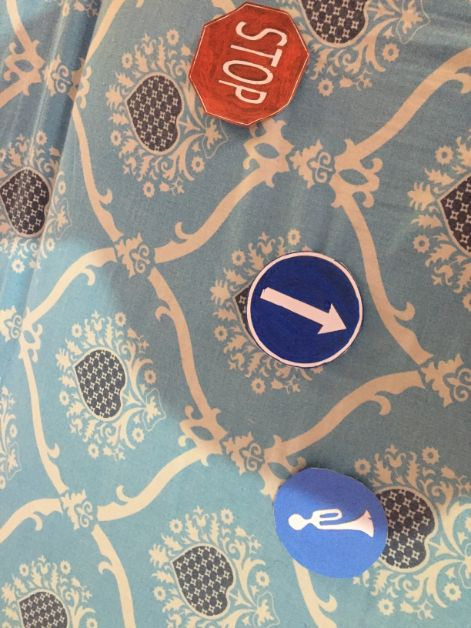blow-horn: (274, 464, 386, 576)
go-stright: (245, 246, 367, 368)
stop: (181, 1, 314, 132)
